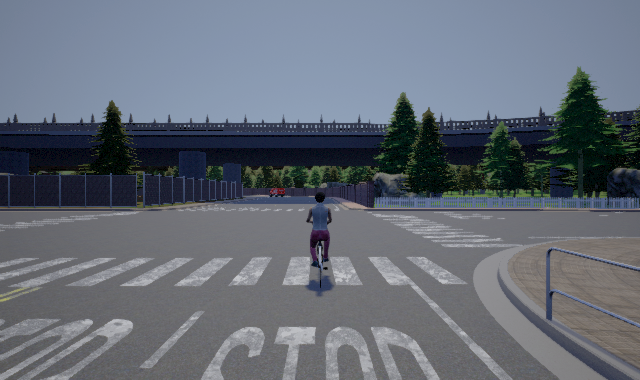bike: (305, 192, 336, 290)
